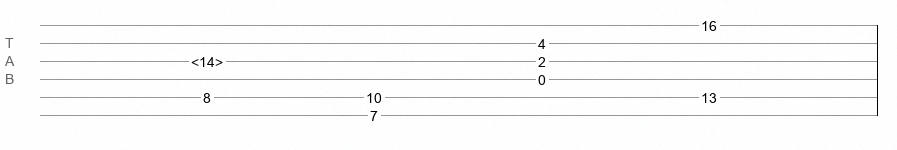0: (538, 72, 546, 82)
10: (366, 90, 382, 100)
13: (701, 90, 717, 100)
16: (701, 18, 717, 28)
2: (538, 54, 546, 64)
4: (538, 36, 546, 46)
7: (370, 108, 378, 118)
8: (203, 90, 211, 100)
harmonic: (191, 54, 223, 64)
